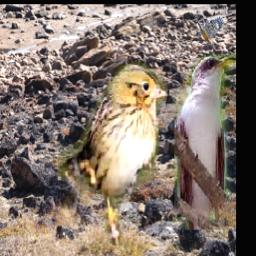Cuckoo: (175, 55, 236, 231)
Sparrow: (58, 62, 169, 247)
Woodpecker: (197, 17, 224, 50)
